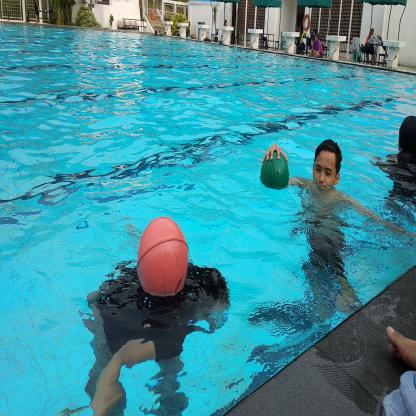green_buoy: (257, 147, 294, 197)
red_buoy: (133, 214, 197, 302)
